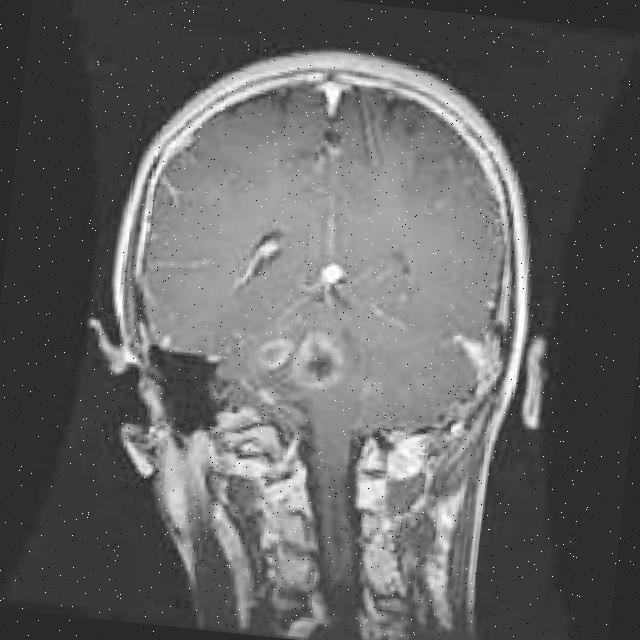EMCI: (224, 324, 393, 434)
